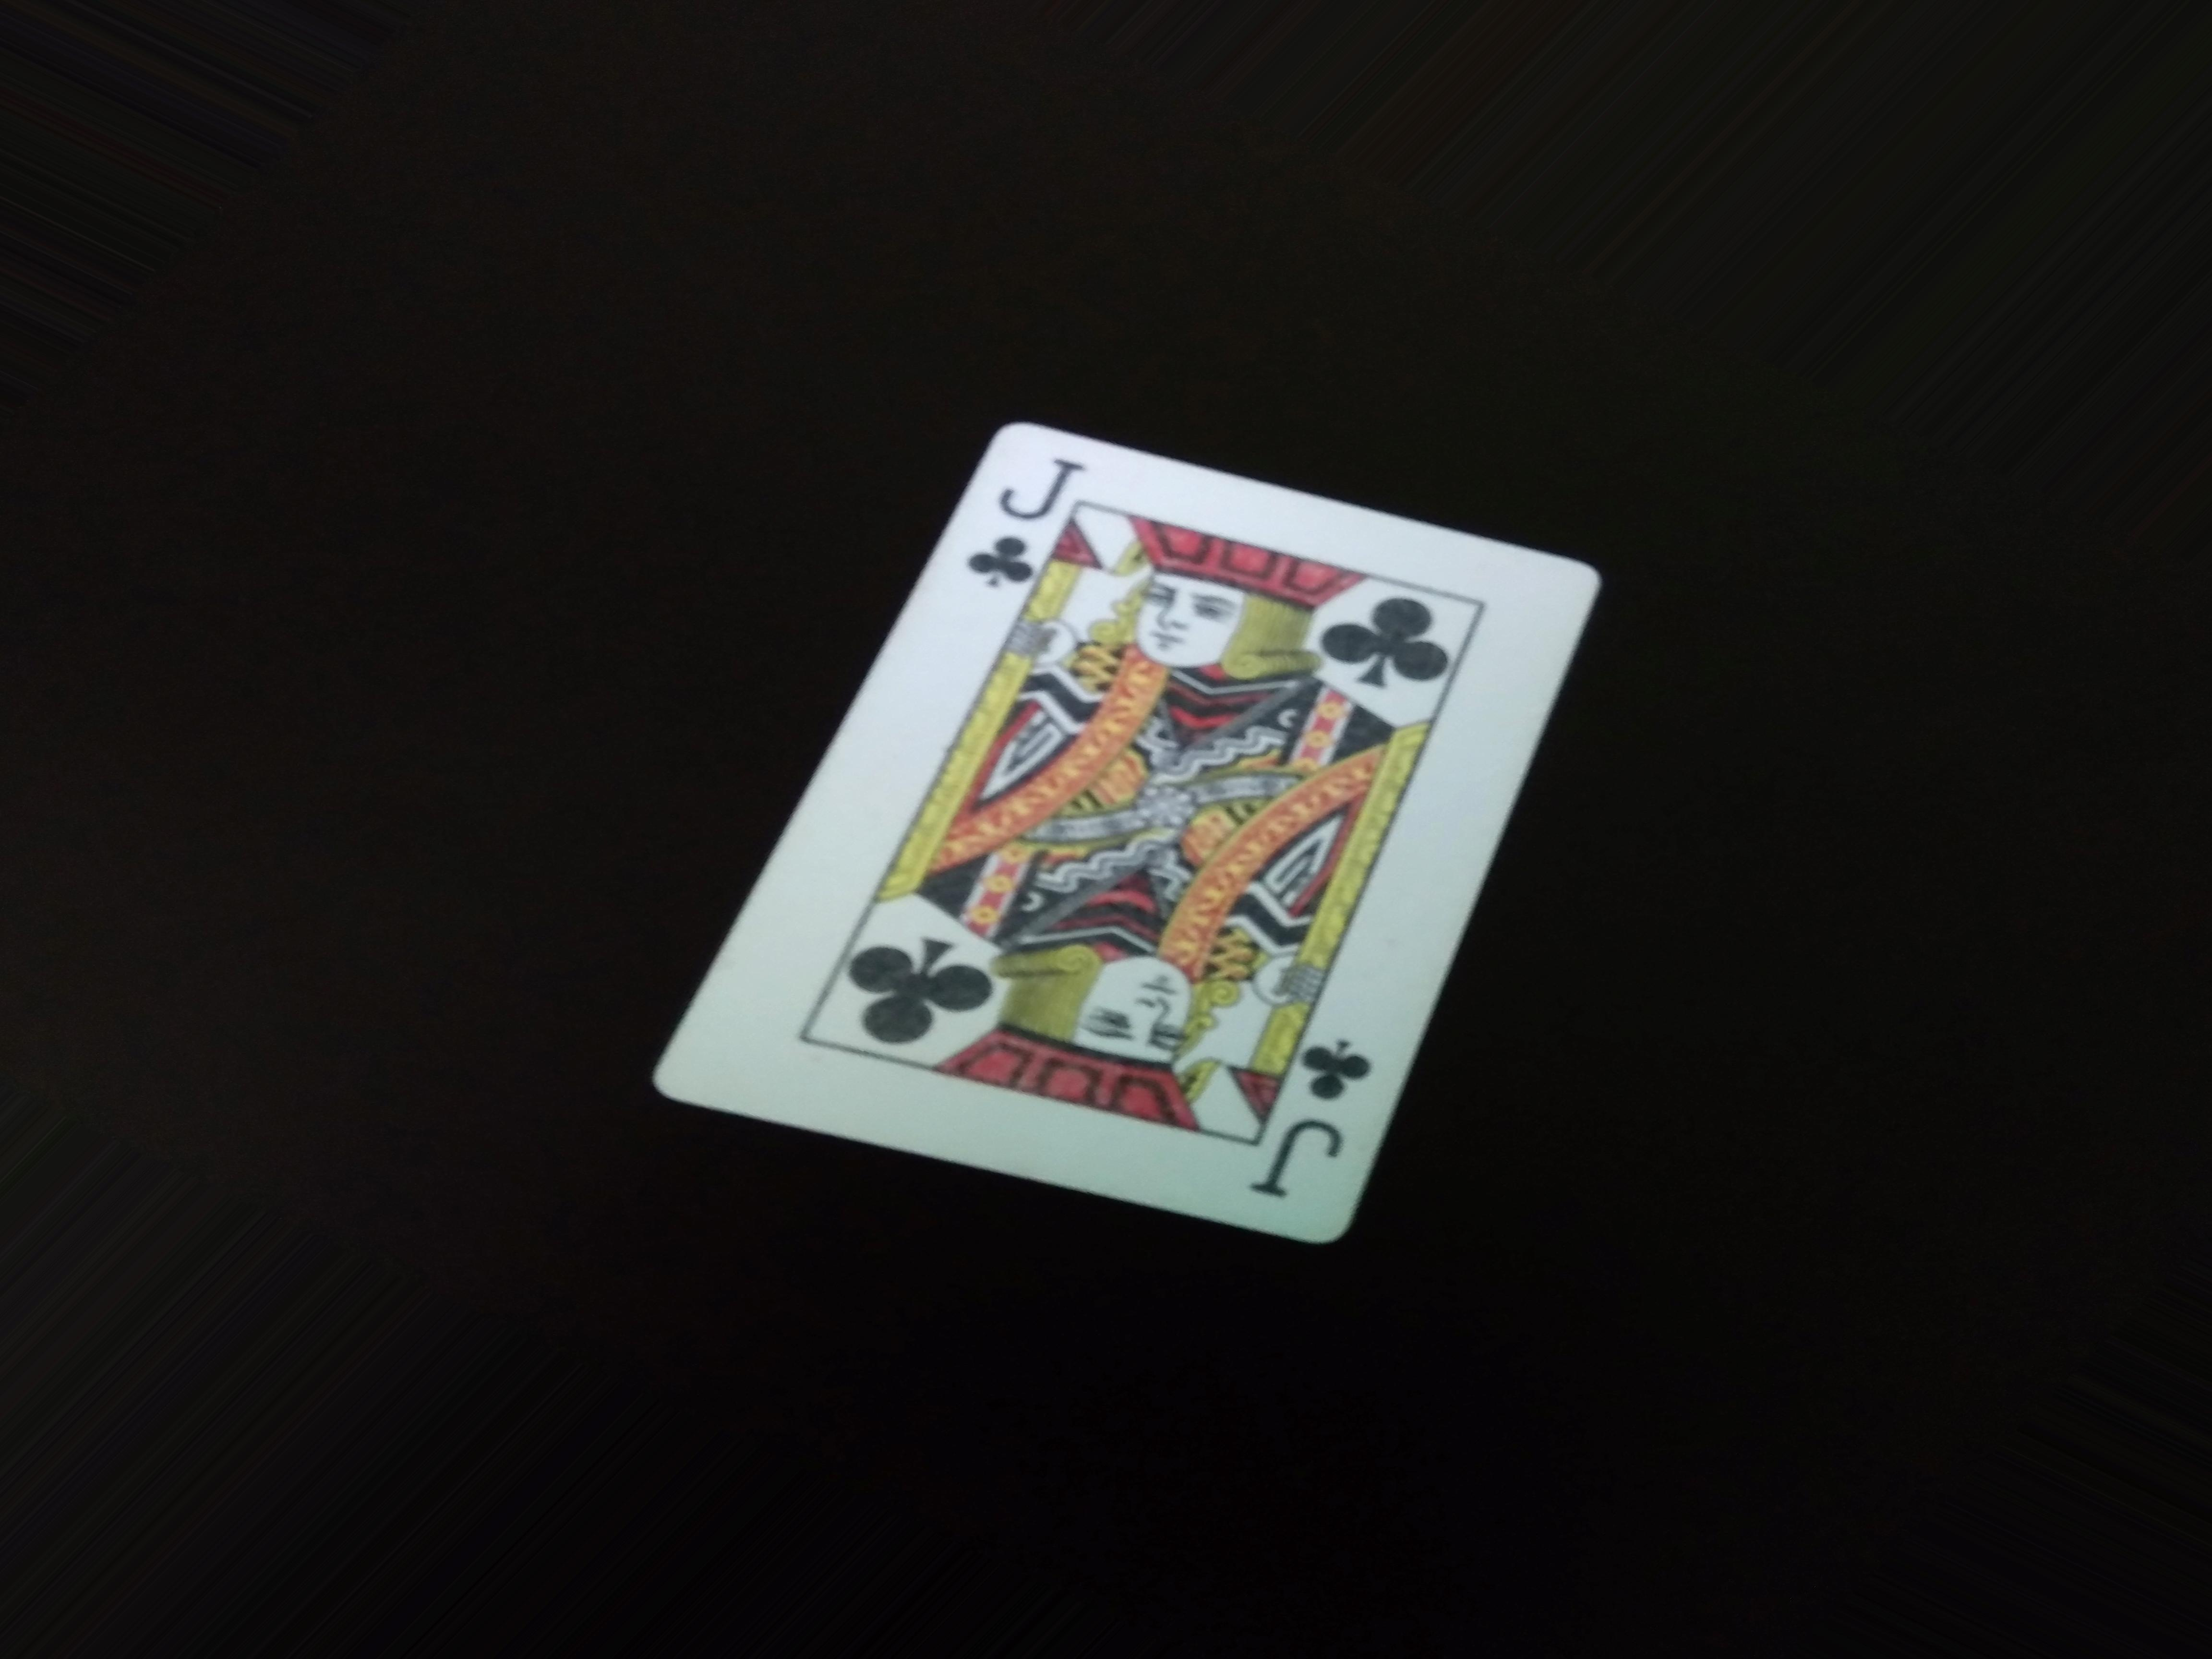JC: (970, 427, 1092, 599)
